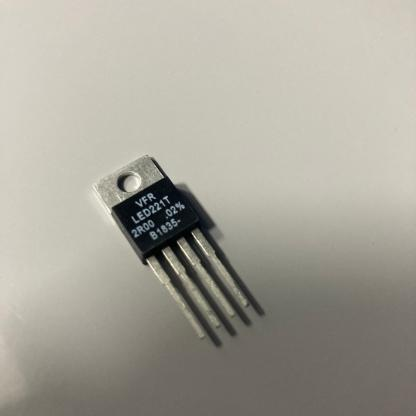SP0000012: (45, 137, 314, 374)
